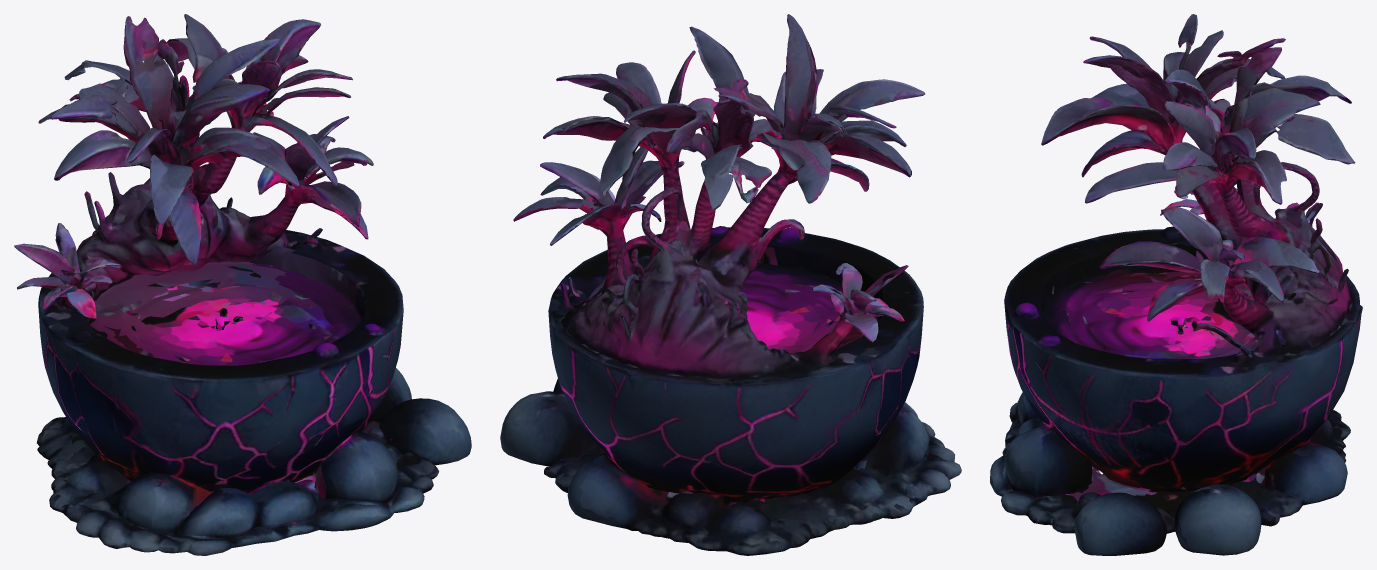
The model's file is growth-planter-generated-2026-05-17T18-55-06-889Z.medium.glb.
3 views of the same model, side by side, from view 1: azimuth 30°, elevation 25°; view 2: azimuth 150°, elevation 25°; view 3: azimuth 270°, elevation 25° (orthographic). The views are drawn at different scales.
Visible parts, largest first — view 1: temp_mesh.ply; view 2: temp_mesh.ply; view 3: temp_mesh.ply.
Part boxes in pixels (x1,y1,x2,y2): temp_mesh.ply: (14,14,471,555); temp_mesh.ply: (500,14,961,555); temp_mesh.ply: (990,14,1362,555).
Bounding box in the file's own units: 1.86 × 1.97 × 1.63.
1 material, 1 textured.
